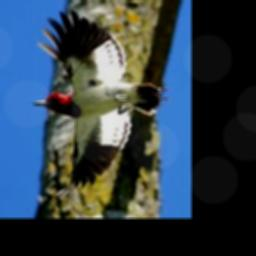Woodpecker: (32, 10, 166, 195)
